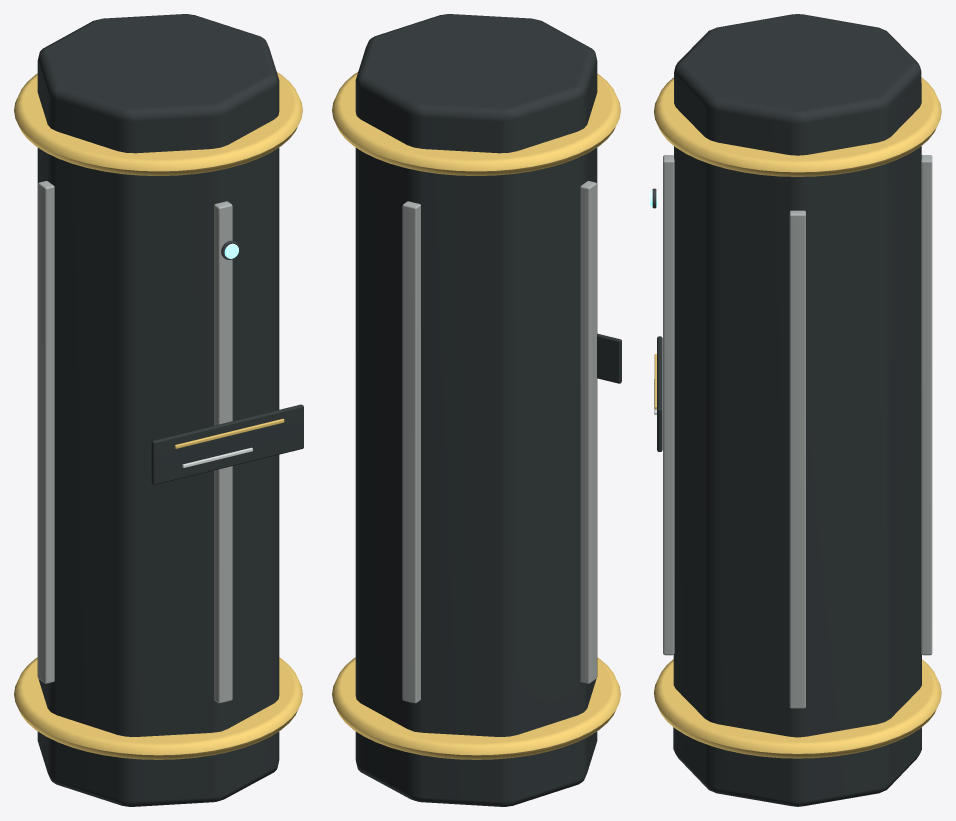
The model's file is age_museum_archive_column.glb.
The picture shows the model from 3 angles, left to right: view 1: azimuth 30°, elevation 25°; view 2: azimuth 150°, elevation 25°; view 3: azimuth 270°, elevation 25°; orthographic projection.
Parts seen in each view (by area): view 1: age_museum_archive_column_octagonal_black_core, age_museum_archive_column_upper_gold_ring, age_museum_archive_column_lower_gold_ring, age_museum_archive_column_vertical_old_metal_rail_04, age_museum_archive_column_vertical_old_metal_rail_01, age_museum_archive_column_archive_label_readable_face, age_museum_archive_column_archive_label_readable_title_rule; view 2: age_museum_archive_column_octagonal_black_core, age_museum_archive_column_vertical_old_metal_rail_03, age_museum_archive_column_upper_gold_ring, age_museum_archive_column_lower_gold_ring, age_museum_archive_column_vertical_old_metal_rail_04, age_museum_archive_column_archive_label_readable_face; view 3: age_museum_archive_column_octagonal_black_core, age_museum_archive_column_upper_gold_ring, age_museum_archive_column_lower_gold_ring, age_museum_archive_column_vertical_old_metal_rail_02, age_museum_archive_column_vertical_old_metal_rail_03, age_museum_archive_column_vertical_old_metal_rail_01, age_museum_archive_column_archive_label_readable_face.
Part boxes in pixels (left/top/right/bottom): age_museum_archive_column_octagonal_black_core: left=37, top=14, right=279, bottom=806; age_museum_archive_column_upper_gold_ring: left=14, top=72, right=302, bottom=175; age_museum_archive_column_lower_gold_ring: left=14, top=657, right=302, bottom=759; age_museum_archive_column_vertical_old_metal_rail_04: left=38, top=181, right=54, bottom=683; age_museum_archive_column_vertical_old_metal_rail_01: left=214, top=201, right=232, bottom=703; age_museum_archive_column_archive_label_readable_face: left=151, top=404, right=303, bottom=484; age_museum_archive_column_archive_label_readable_title_rule: left=174, top=419, right=284, bottom=448; age_museum_archive_column_octagonal_black_core: left=355, top=14, right=597, bottom=806; age_museum_archive_column_vertical_old_metal_rail_03: left=402, top=201, right=420, bottom=703; age_museum_archive_column_upper_gold_ring: left=332, top=72, right=620, bottom=175; age_museum_archive_column_lower_gold_ring: left=332, top=657, right=620, bottom=759; age_museum_archive_column_vertical_old_metal_rail_04: left=580, top=181, right=596, bottom=683; age_museum_archive_column_archive_label_readable_face: left=597, top=333, right=621, bottom=383; age_museum_archive_column_octagonal_black_core: left=673, top=14, right=921, bottom=806; age_museum_archive_column_upper_gold_ring: left=654, top=77, right=941, bottom=176; age_museum_archive_column_lower_gold_ring: left=654, top=659, right=941, bottom=758; age_museum_archive_column_vertical_old_metal_rail_02: left=789, top=210, right=805, bottom=708; age_museum_archive_column_vertical_old_metal_rail_03: left=921, top=155, right=932, bottom=655; age_museum_archive_column_vertical_old_metal_rail_01: left=663, top=155, right=674, bottom=655; age_museum_archive_column_archive_label_readable_face: left=657, top=336, right=662, bottom=451.
Bounding box in the file's own units: 0.96 × 2.56 × 0.972.
